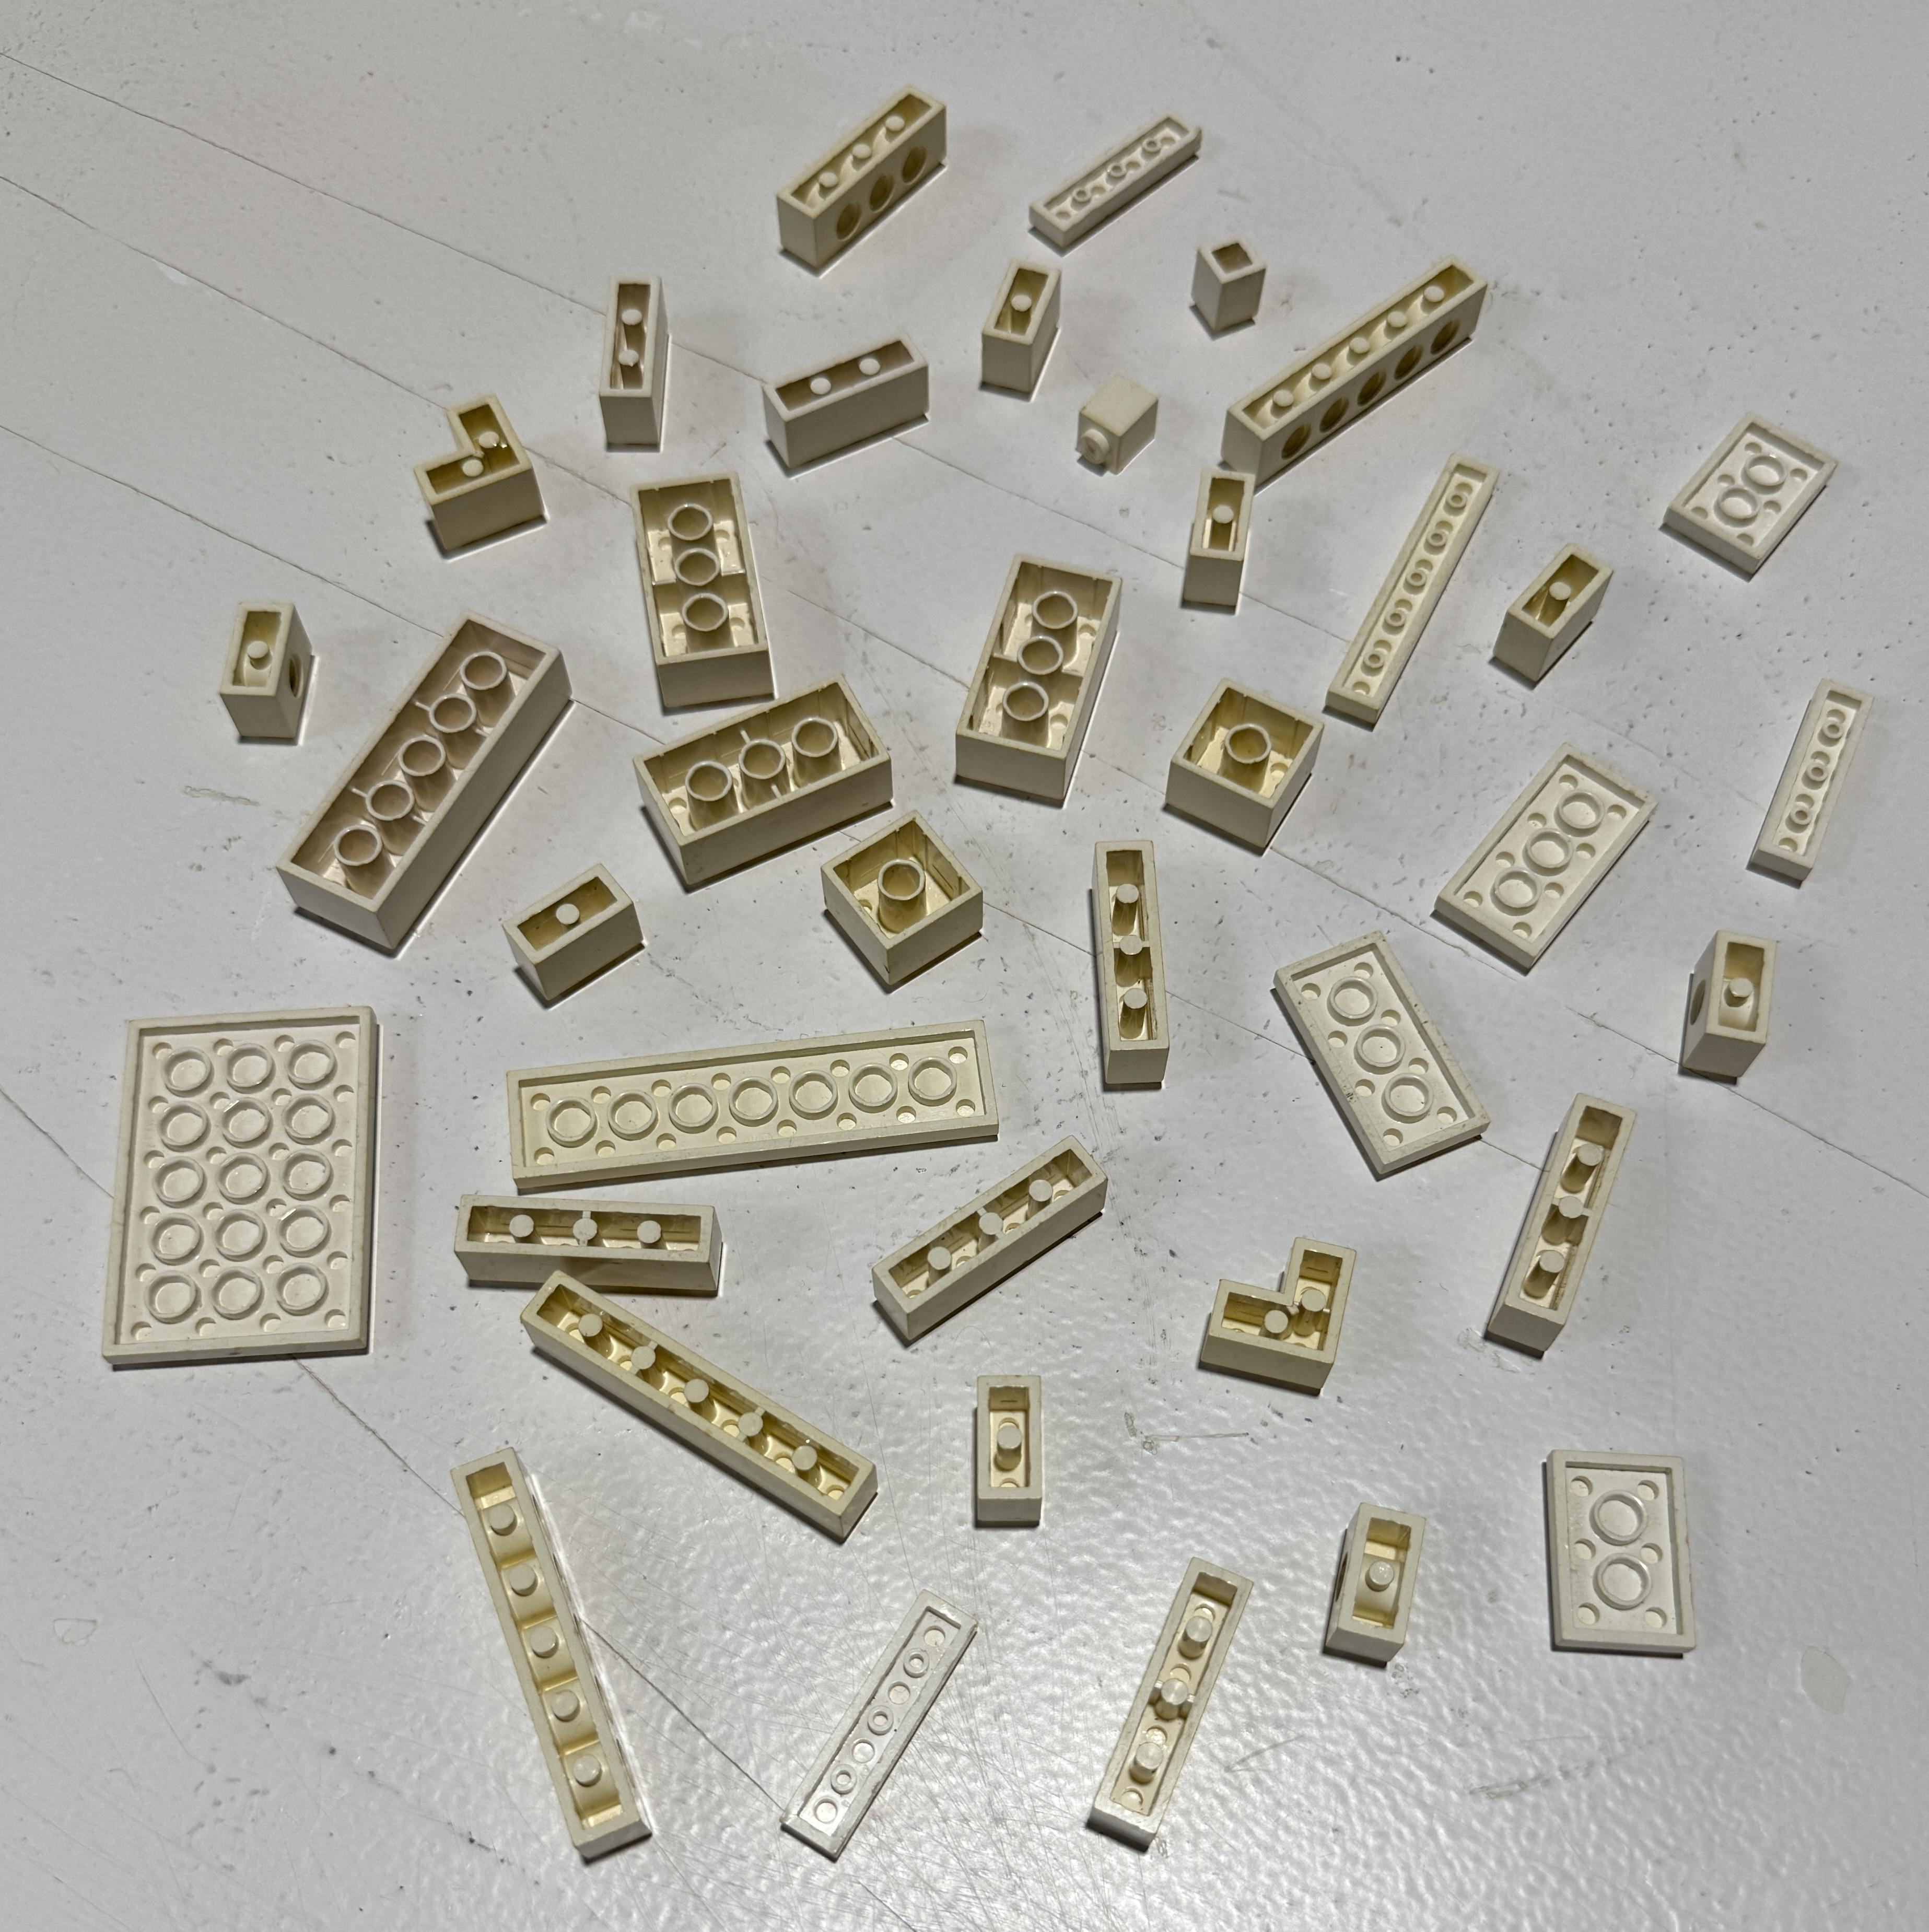brick_1x1: (1060, 348, 1185, 498), (1175, 212, 1286, 378)
brick_1x2: (488, 844, 662, 1017), (1660, 908, 1791, 1134), (1479, 526, 1639, 710), (945, 1351, 1070, 1538), (1309, 1489, 1434, 1674), (201, 583, 334, 758), (956, 244, 1079, 424), (1159, 450, 1274, 623)
brick_1x3: (753, 309, 949, 500), (564, 244, 707, 475)
brick_1x4: (823, 1123, 1132, 1363), (394, 1158, 779, 1317), (1079, 1543, 1270, 1861), (1468, 1072, 1643, 1388), (760, 74, 980, 290), (1065, 807, 1187, 1114)
brick_2x2: (804, 800, 1012, 1000), (1150, 673, 1328, 865)
brick_2x4: (627, 646, 897, 894), (945, 539, 1127, 811)
